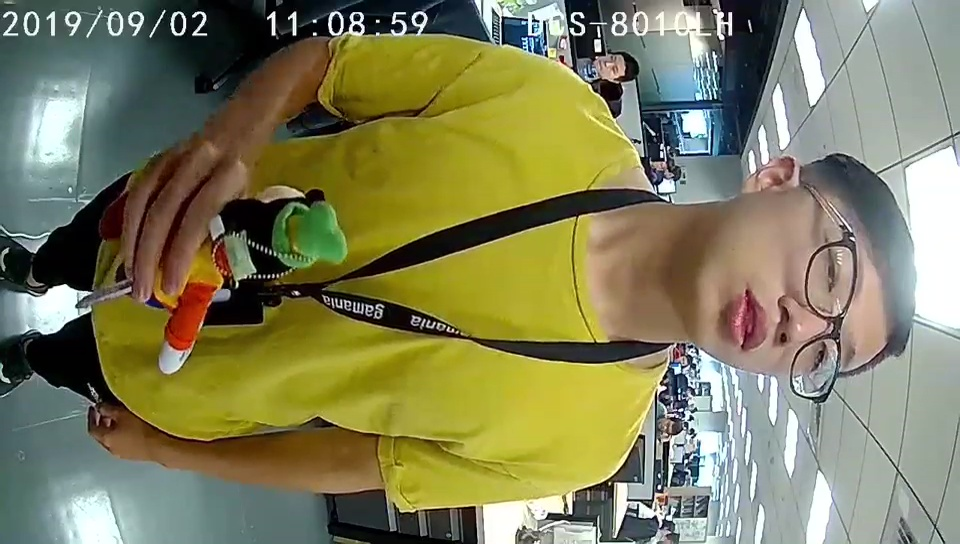goofy: (156, 192, 348, 376)
